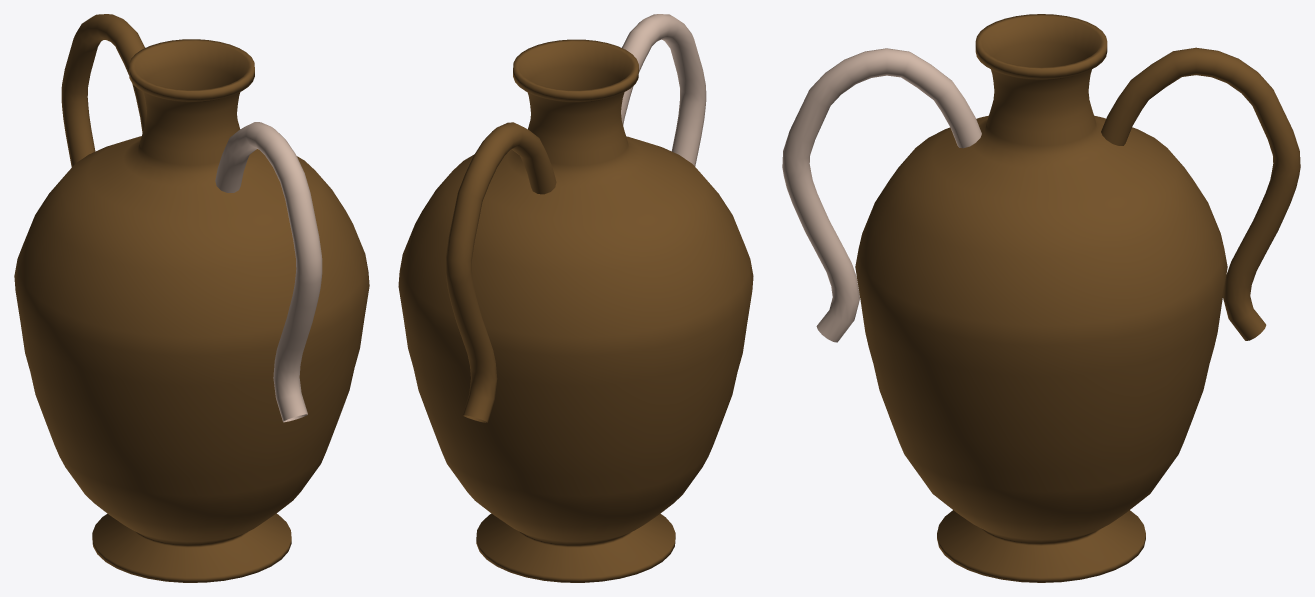
The model's file is vaso 3.fbx.
3 views of the same model, side by side, from view 1: azimuth 30°, elevation 25°; view 2: azimuth 150°, elevation 25°; view 3: azimuth 270°, elevation 25° (orthographic). The views are drawn at different scales.
Visible parts, largest first — view 1: BézierCurve.008; view 2: BézierCurve.008; view 3: BézierCurve.008.
Part boxes in pixels (x1,y1,x2,y2): BézierCurve.008: [14, 14, 369, 582]; BézierCurve.008: [398, 14, 753, 582]; BézierCurve.008: [782, 14, 1300, 582].
Bounding box in the file's own units: 54.35 × 80.04 × 75.65.
